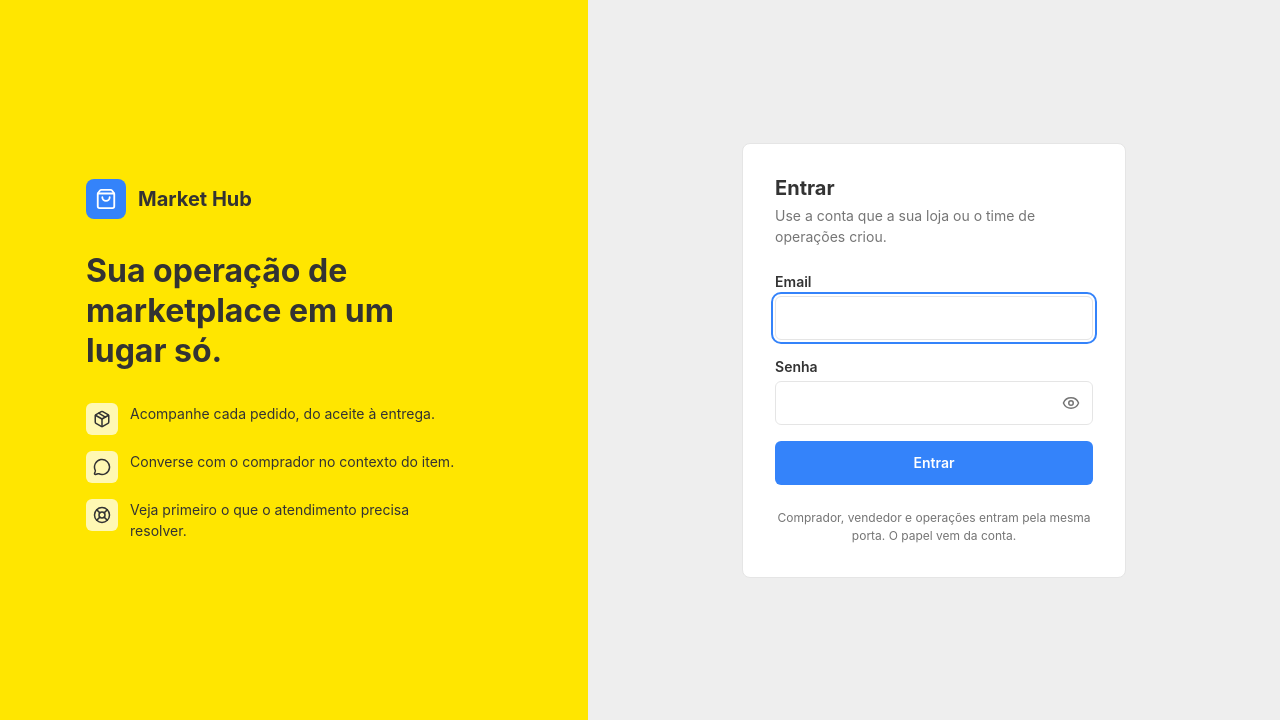
Test: LoginPage › shows a friendly message for invalid credentials
The width and height of the screenshot is (1280, 720).
Type "seller@marketplace.test" into the field labelled "Email".
click(934, 318); type("seller@marketplace.test")  # box [775, 296, 1093, 340]
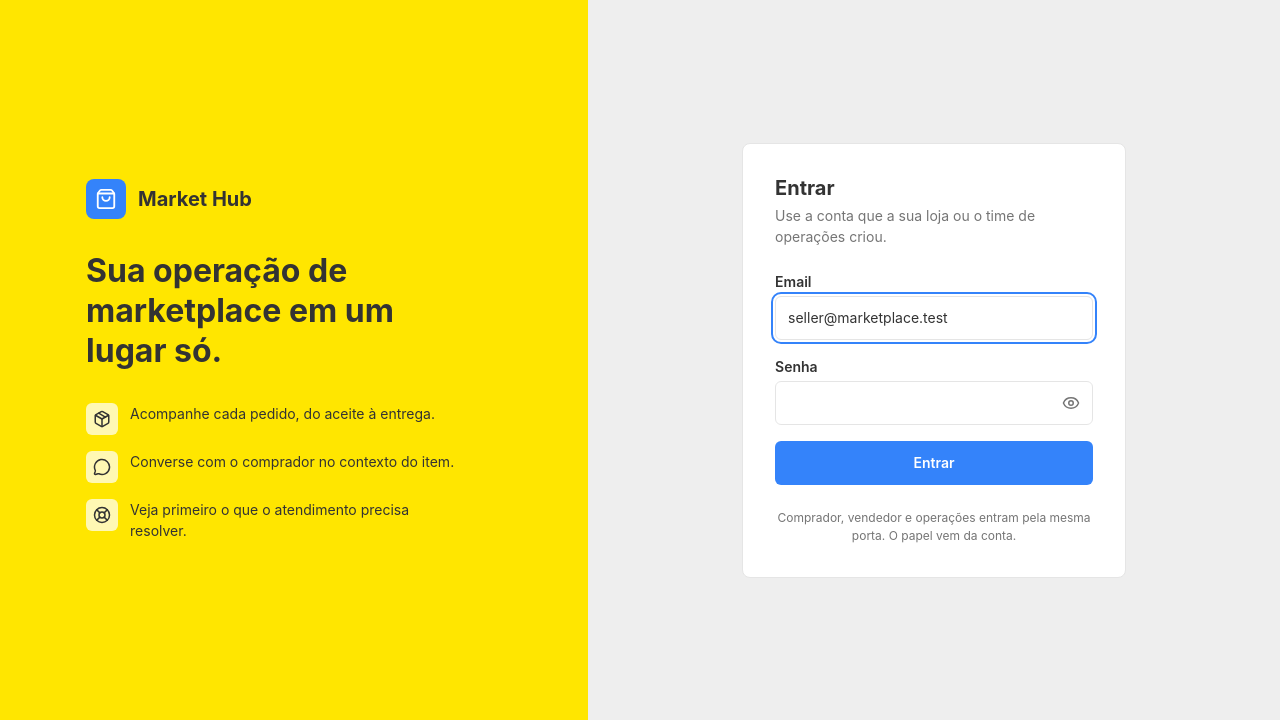
Type "wrong" into the password field labelled "Senha".
click(934, 402); type("wrong")  # box [775, 380, 1093, 424]
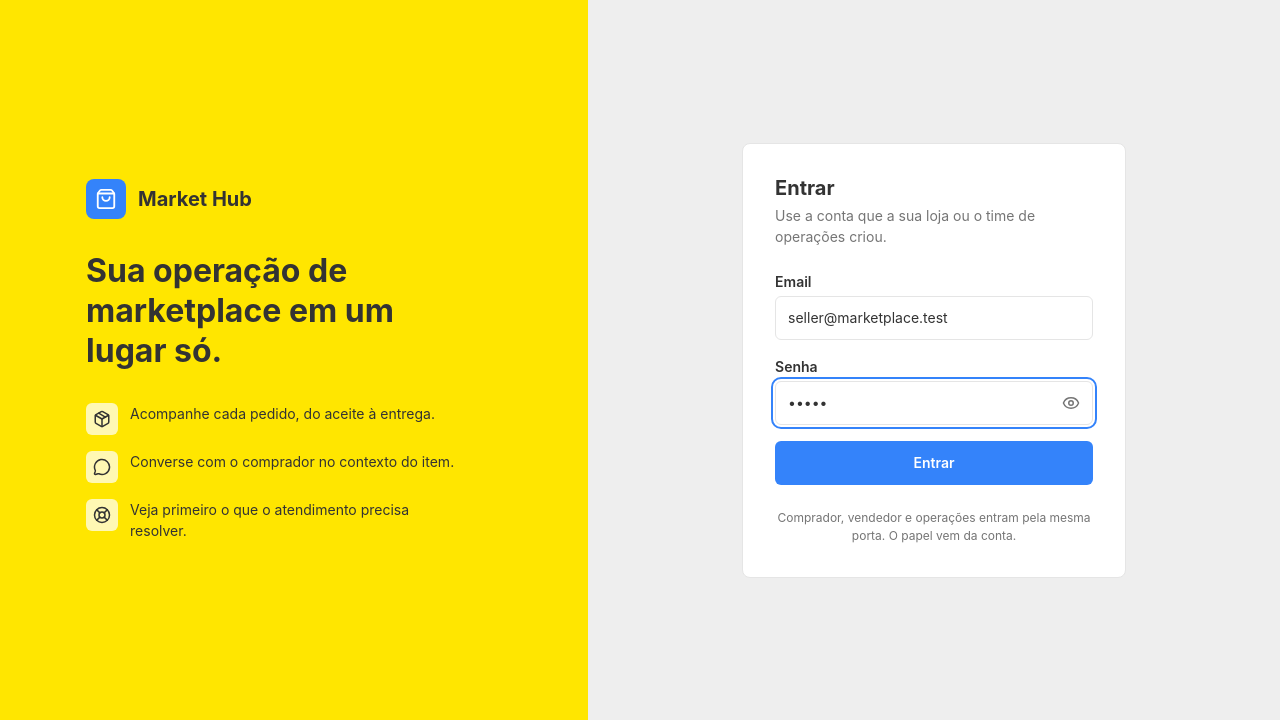
Click the button "Entrar".
click(934, 462)  # box [775, 440, 1093, 484]
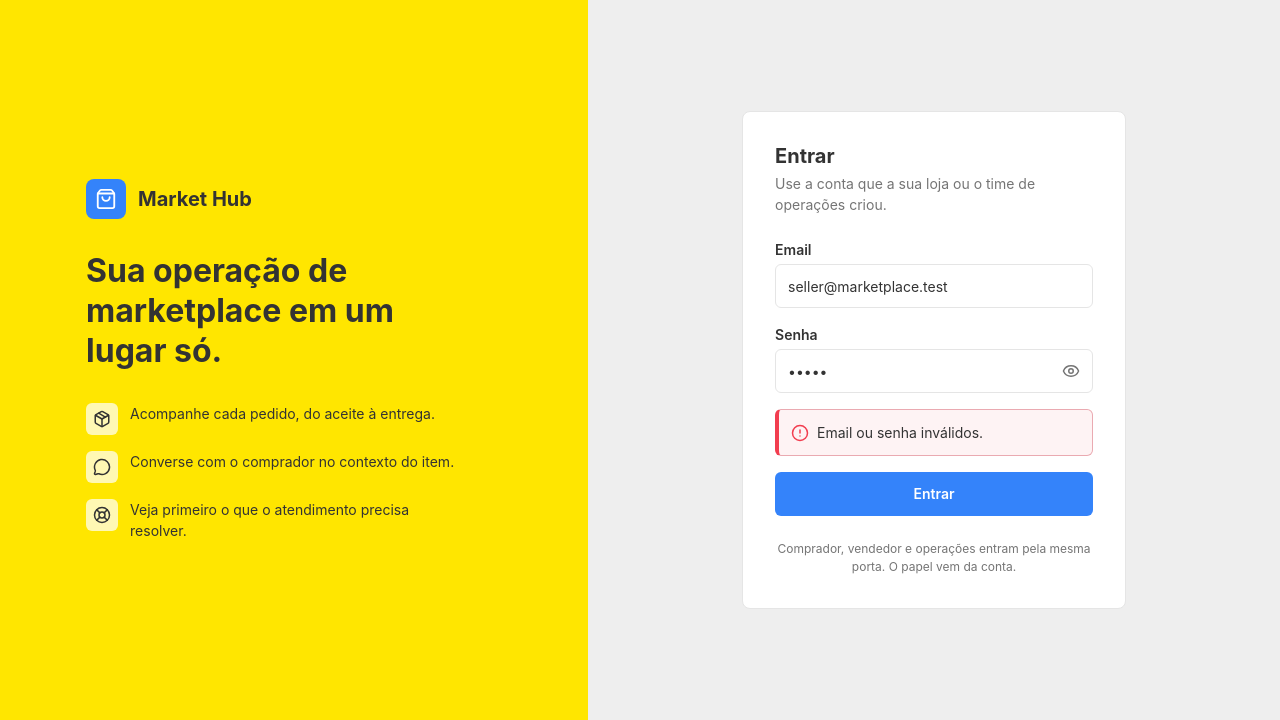
expect the message reads "Email ou senha inválidos.": met, box [817, 424, 983, 441]
